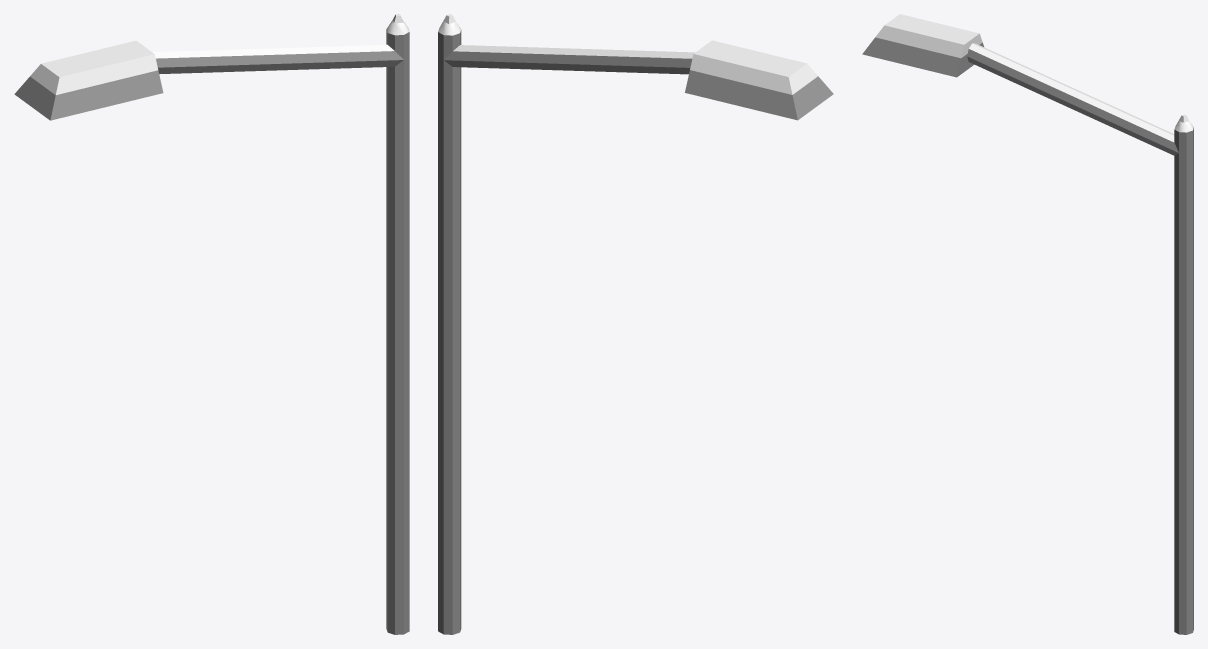
File: poste.fbx
3 views of the same model, side by side, from view 1: azimuth 30°, elevation 25°; view 2: azimuth 150°, elevation 25°; view 3: azimuth 330°, elevation 25° (orthographic). The views are drawn at different scales.
Visible parts, largest first — view 1: pCube32; view 2: pCube32; view 3: pCube32.
Part boxes in pixels (box(x1,y1,x2,y2)): pCube32: box(14, 14, 409, 634); pCube32: box(438, 14, 833, 634); pCube32: box(862, 14, 1193, 634).
Size of the model in its own units: 2.26 by 3.7 by 0.3751.
